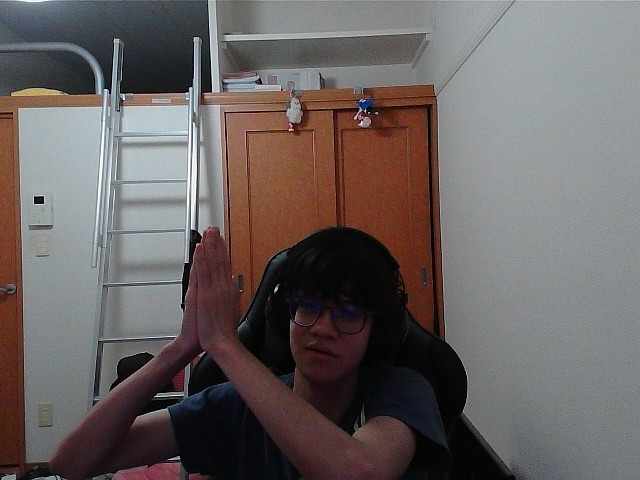pray: (200, 230, 239, 335)
